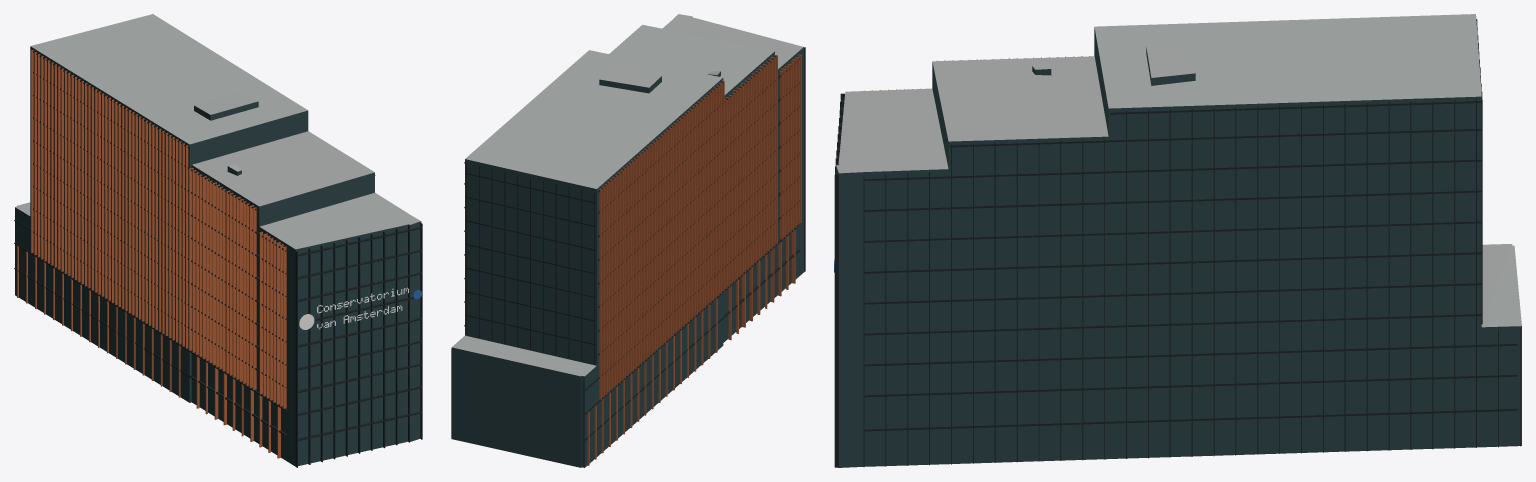
Rendered from conservatorium-van-amsterdam.glb.
The picture shows the model from 3 angles, left to right: view 1: azimuth 30°, elevation 25°; view 2: azimuth 150°, elevation 25°; view 3: azimuth 270°, elevation 25°; orthographic projection. The views are drawn at different scales.
Visible parts, largest first — view 1: conservatorium-van-amsterdam; view 2: conservatorium-van-amsterdam; view 3: conservatorium-van-amsterdam.
Boxes of the visible parts, bbox=[...] form: conservatorium-van-amsterdam: bbox=[14, 14, 422, 467]; conservatorium-van-amsterdam: bbox=[451, 14, 805, 467]; conservatorium-van-amsterdam: bbox=[834, 14, 1521, 467].
Bounding box in the file's own units: 27.75 × 44.09 × 76.69.
